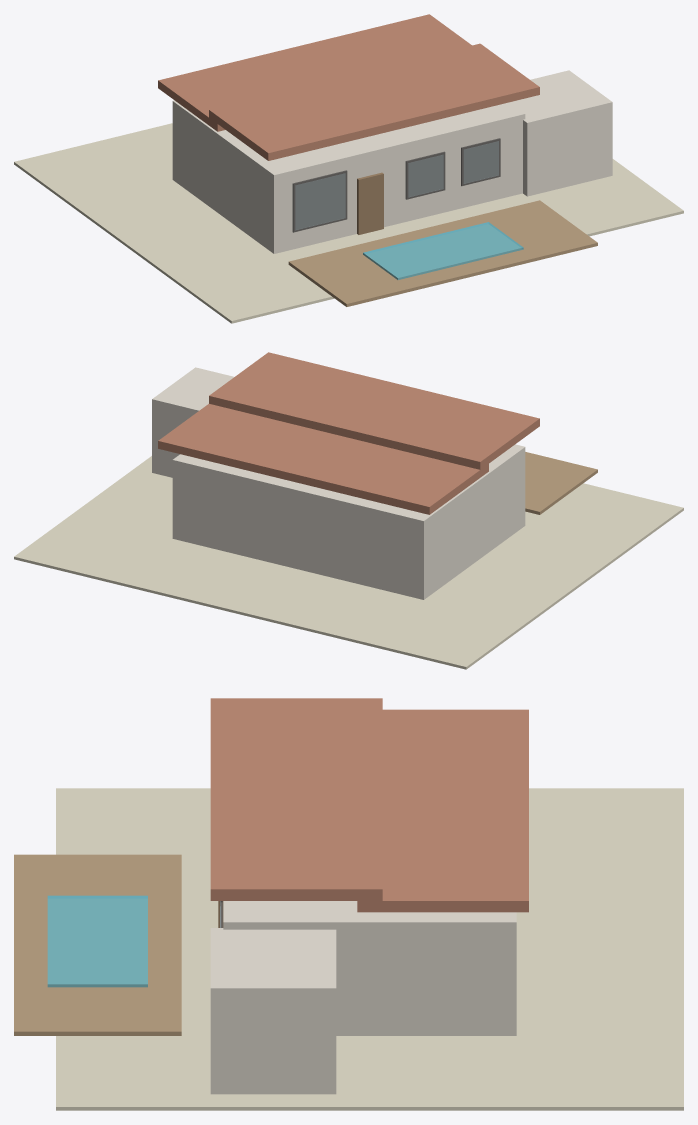
Rendered from bocas.glb.
3 views of the same model, one above another, from view 1: azimuth 30°, elevation 25°; view 2: azimuth 150°, elevation 25°; view 3: azimuth 270°, elevation 25° (orthographic). The views are drawn at different scales.
Visible parts, largest first — view 1: Ground, Roof, Walls, Deck, Wing, Frames, Windows, Pool, Door; view 2: Ground, Roof, Walls, Wing, Deck; view 3: Ground, Roof, Walls, Deck, Wing, Pool.
Part boxes in pixels (<box>): Ground: <box>14,123,683,323</box>; Roof: <box>158,14,539,160</box>; Walls: <box>172,100,525,253</box>; Deck: <box>288,200,597,306</box>; Wing: <box>510,70,612,196</box>; Frames: <box>292,138,500,232</box>; Windows: <box>295,141,498,229</box>; Pool: <box>363,222,523,279</box>; Door: <box>357,172,383,234</box>; Ground: <box>14,456,683,669</box>; Roof: <box>158,352,539,514</box>; Walls: <box>172,444,525,599</box>; Wing: <box>152,367,233,477</box>; Deck: <box>525,452,597,514</box>; Ground: <box>56,788,683,1110</box>; Roof: <box>210,698,528,912</box>; Walls: <box>223,901,516,1035</box>; Deck: <box>14,854,181,1035</box>; Wing: <box>210,928,336,1094</box>; Pool: <box>47,895,147,987</box>.
Bounding box in the file's own units: 18 × 4.25 × 16.
